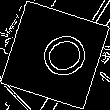O_SW: (22, 24, 88, 86)
